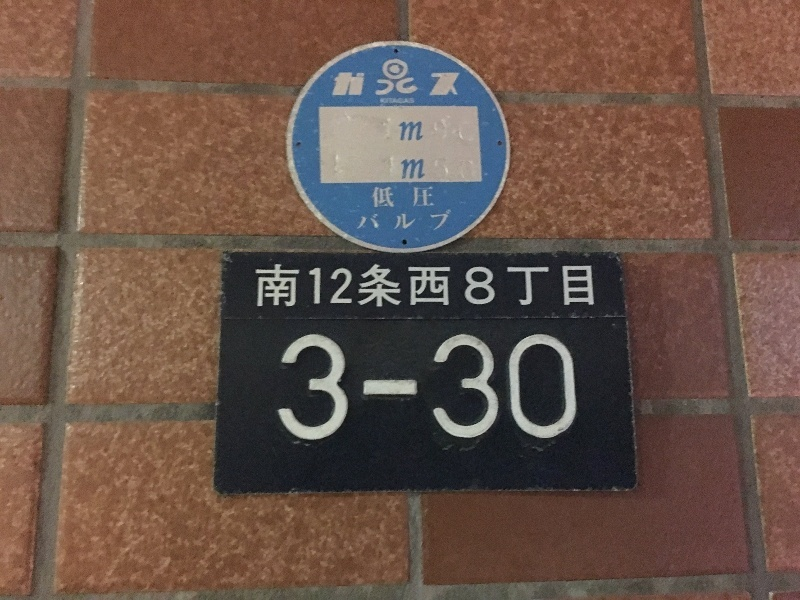text: (289, 330, 304, 440), (305, 330, 320, 440), (321, 330, 336, 440), (337, 330, 352, 440), (353, 330, 368, 440), (369, 330, 384, 440), (385, 330, 400, 440), (401, 330, 416, 440), (417, 330, 432, 440), (433, 330, 448, 440), (449, 330, 464, 440), (465, 330, 480, 440), (481, 330, 496, 440), (497, 330, 512, 440), (513, 330, 528, 440), (529, 330, 544, 440), (545, 330, 560, 440), (561, 330, 576, 440), (278, 330, 288, 440), (257, 265, 272, 308), (273, 265, 288, 308), (289, 265, 304, 308), (305, 265, 320, 308), (321, 265, 336, 308), (337, 265, 352, 308), (353, 265, 368, 308), (369, 265, 384, 308), (385, 265, 400, 308), (401, 265, 416, 308), (417, 265, 432, 308), (433, 265, 448, 308), (449, 265, 464, 308), (465, 265, 480, 308), (481, 265, 496, 308), (497, 265, 512, 308), (513, 265, 528, 308), (529, 265, 544, 308), (545, 265, 560, 308), (561, 265, 576, 308), (577, 265, 592, 308), (337, 71, 352, 96), (433, 207, 448, 231), (433, 73, 448, 96), (417, 186, 432, 208), (401, 159, 416, 180), (401, 121, 416, 141), (353, 71, 365, 96), (401, 213, 416, 230), (449, 73, 460, 96), (372, 187, 384, 208), (417, 159, 426, 180), (385, 187, 394, 208), (369, 214, 379, 229), (417, 121, 423, 141), (577, 330, 578, 440), (361, 214, 368, 229), (385, 98, 400, 104), (401, 98, 416, 104), (593, 265, 595, 308), (449, 207, 452, 231), (396, 213, 400, 230), (413, 186, 416, 208), (431, 207, 432, 231), (380, 98, 384, 104), (433, 186, 434, 208), (399, 121, 400, 141)
